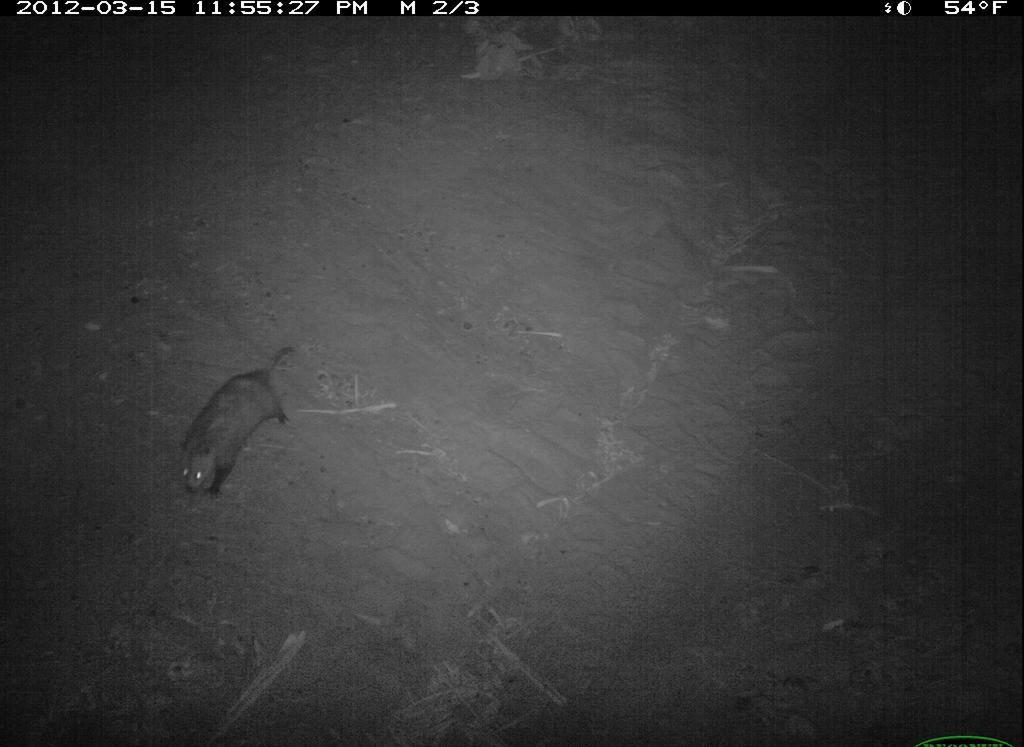opossum: (171, 345, 315, 509)
